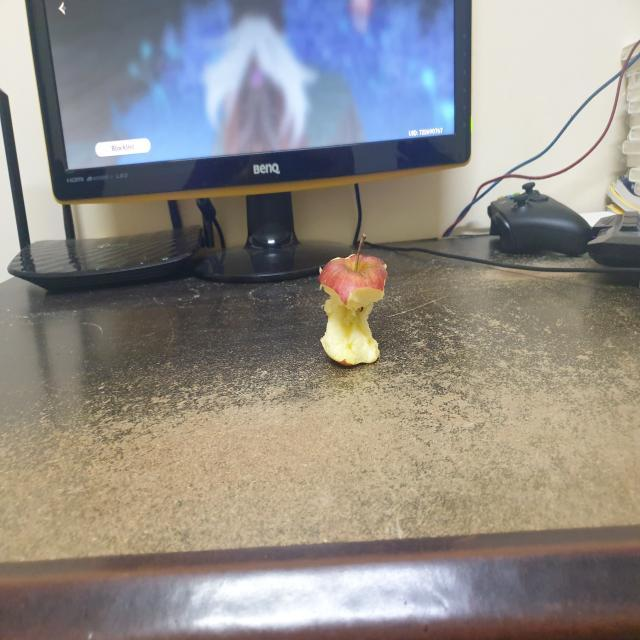apple: (316, 226, 404, 382)
